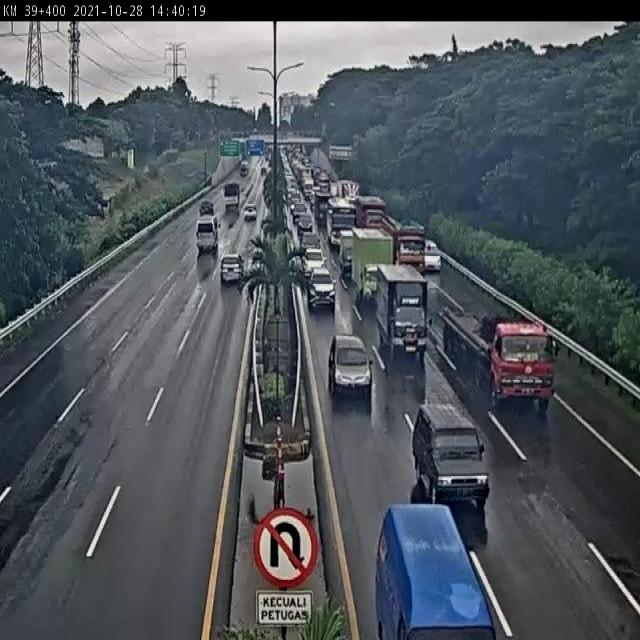Bus: (325, 200, 357, 247)
Car: (412, 403, 491, 507), (327, 334, 372, 398), (308, 272, 335, 316), (220, 251, 246, 289), (300, 249, 330, 273), (425, 242, 441, 272), (243, 203, 259, 225), (296, 216, 312, 237), (302, 234, 320, 248), (292, 205, 306, 220)
Truck: (442, 296, 557, 423), (373, 262, 431, 362), (353, 230, 394, 300), (384, 208, 424, 266), (354, 194, 385, 224), (220, 185, 241, 214)
Van: (370, 505, 497, 640), (194, 214, 222, 258)
